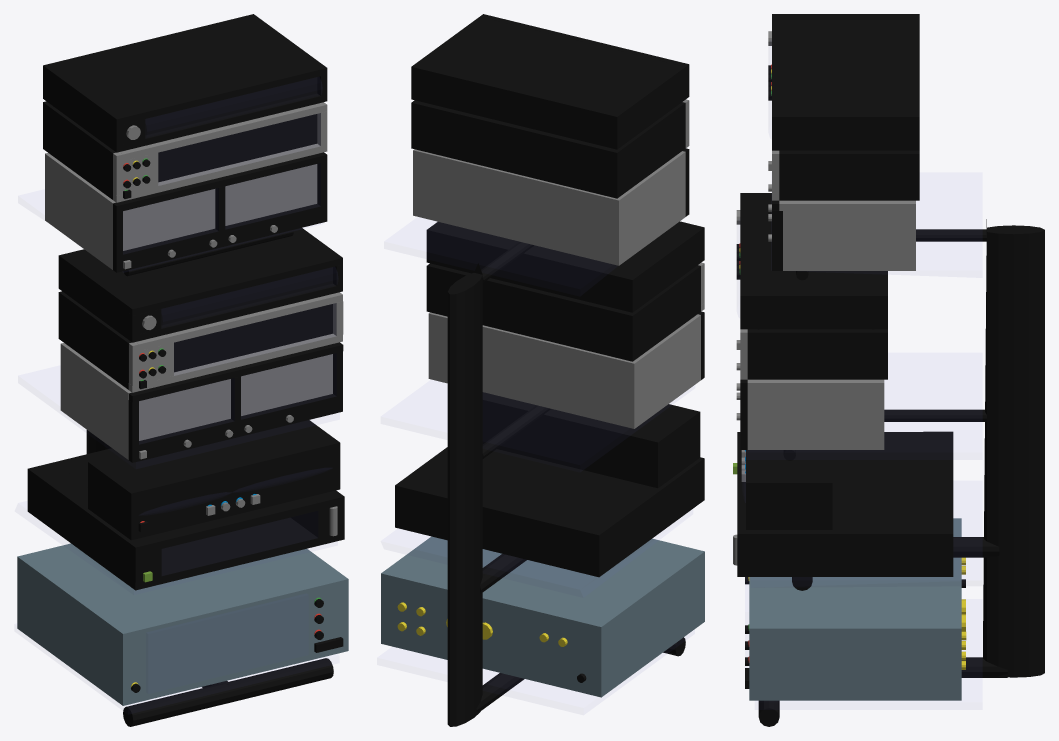
3 renders of one model, left to right at view 1: azimuth 30°, elevation 25°; view 2: azimuth 150°, elevation 25°; view 3: azimuth 270°, elevation 25°, orthographic. The views are drawn at different scales.
Visible parts, largest first — view 1: node_MeshObject439528896-PolyPaper23, node_MeshObject-1780558144-PolyPaper8; view 2: node_MeshObject439528896-PolyPaper23, node_MeshObject-1780558144-PolyPaper8; view 3: node_MeshObject-1780558144-PolyPaper8, node_MeshObject439528896-PolyPaper23.
Boxes of the visible parts, <box> form: node_MeshObject439528896-PolyPaper23: <box>17,159,348,705</box>; node_MeshObject-1780558144-PolyPaper8: <box>43,14,342,726</box>; node_MeshObject439528896-PolyPaper23: <box>381,262,704,697</box>; node_MeshObject-1780558144-PolyPaper8: <box>411,14,704,726</box>; node_MeshObject-1780558144-PolyPaper8: <box>736,14,1044,726</box>; node_MeshObject439528896-PolyPaper23: <box>733,64,966,700</box>.
Bounding box in the file's own units: 0.2248 × 0.5797 × 0.2685.
